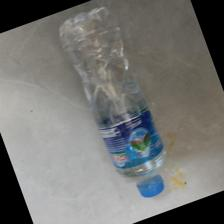Lavie: (56, 6, 175, 203)
